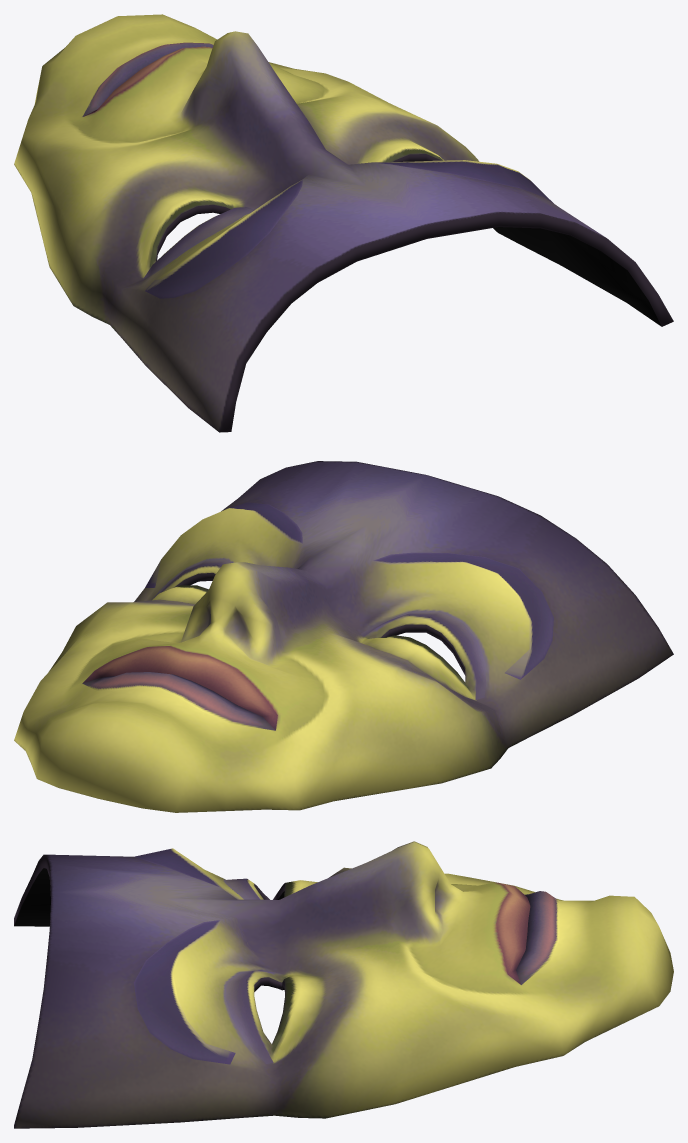
The model's file is anim1_000197.obj.
3 renders of one model, top to bottom at view 1: azimuth 30°, elevation 25°; view 2: azimuth 150°, elevation 25°; view 3: azimuth 270°, elevation 25°, orthographic. The views are drawn at different scales.
Visible parts, largest first — view 1: 151out; view 2: 151out; view 3: 151out.
Boxes of the visible parts, left/top/right/bottom form: 151out: left=14, top=14, right=673, bottom=432; 151out: left=14, top=461, right=673, bottom=812; 151out: left=14, top=841, right=673, bottom=1128.
Bounding box in the file's own units: 4.16 × 1.69 × 5.52.
